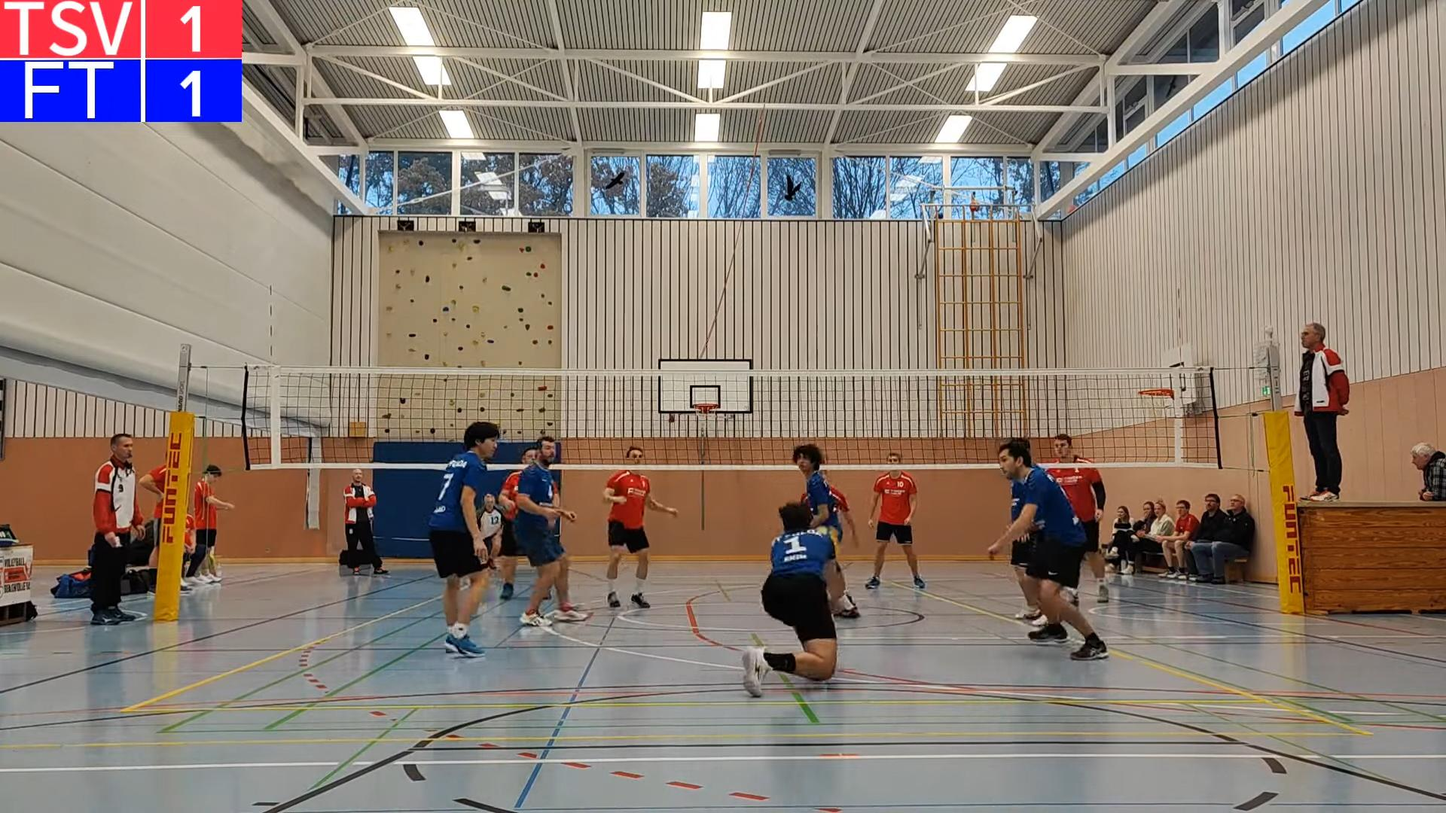ricezione: (737, 499, 844, 696)
